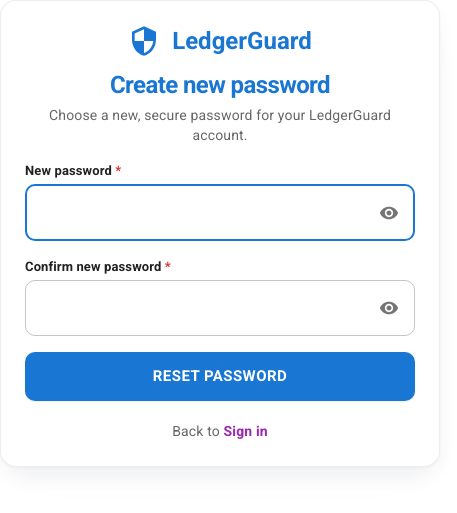
Password Recovery and Change Flows › ResetPasswordPage › validates password confirmation mismatch
In the password field labelled "New password *": (196, 213) top-left (25, 185), bottom-right (366, 241), type "ValidPassword123!"
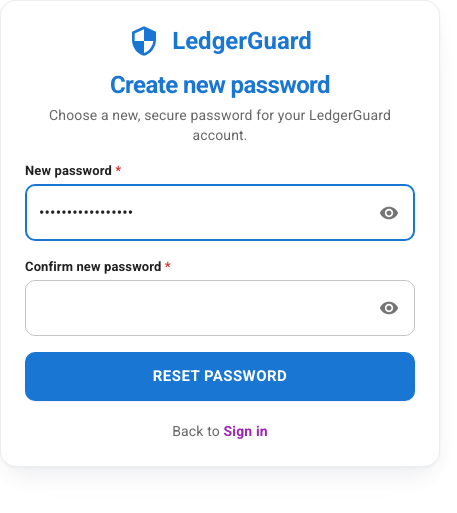
In the password field labelled "Confirm new password *": (196, 308) top-left (25, 280), bottom-right (366, 336), type "DifferentPassword123!"
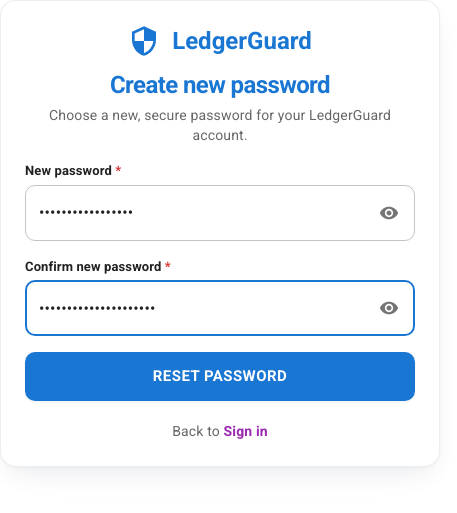
Click the button "Reset password": (220, 376) top-left (25, 352), bottom-right (415, 401)
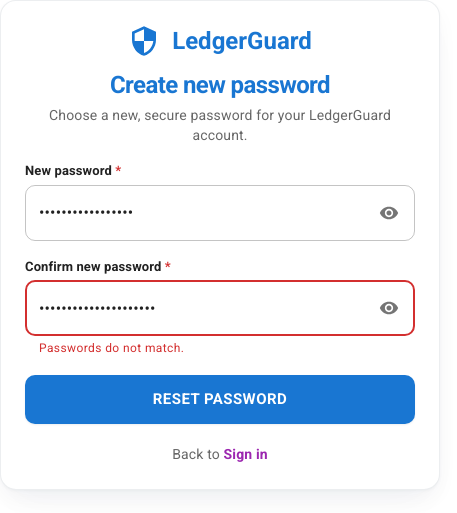
Now the text "Passwords do not match." is shown, box top-left (39, 341), bottom-right (184, 355)
